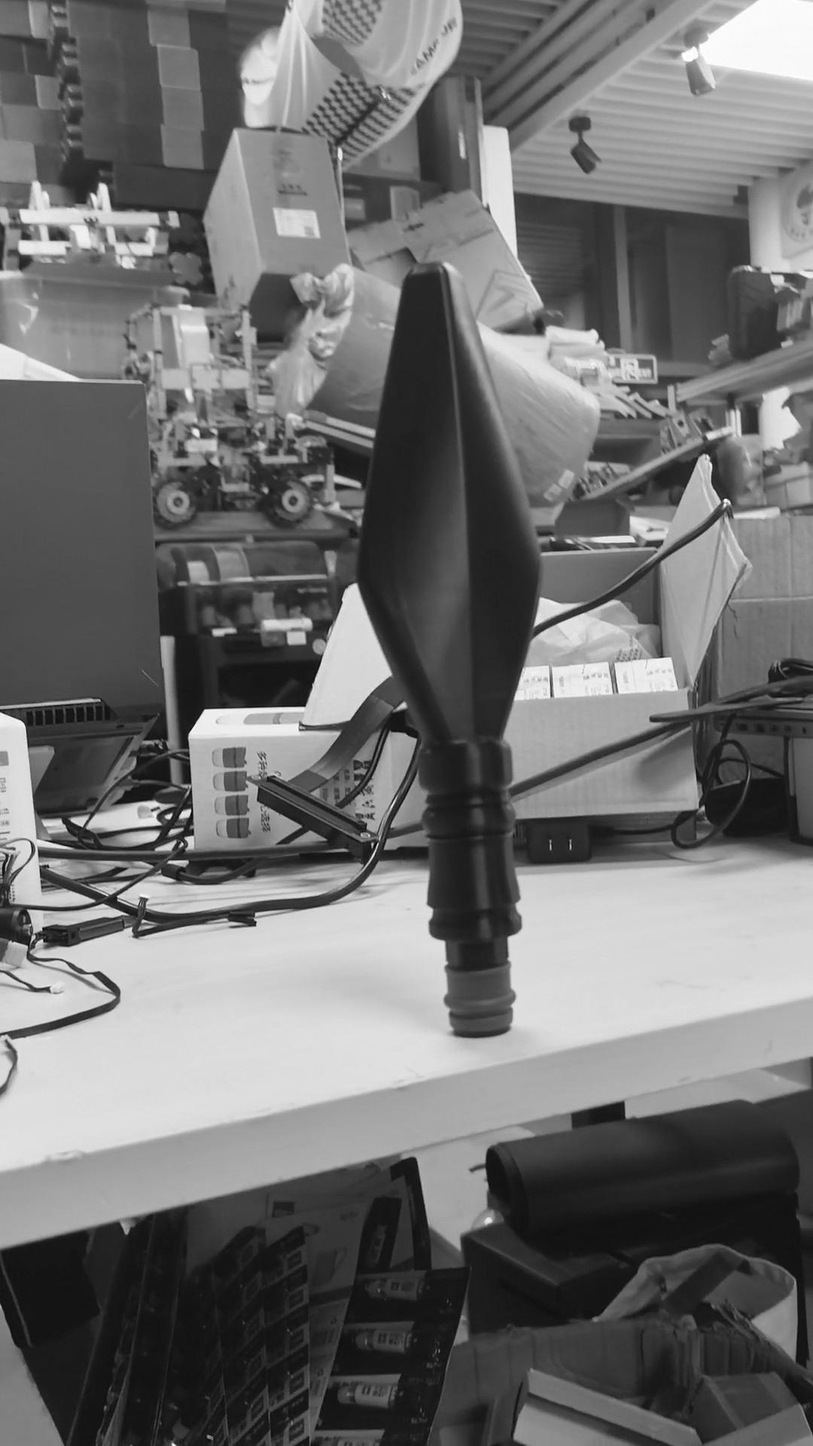base: (427, 959, 521, 1047)
